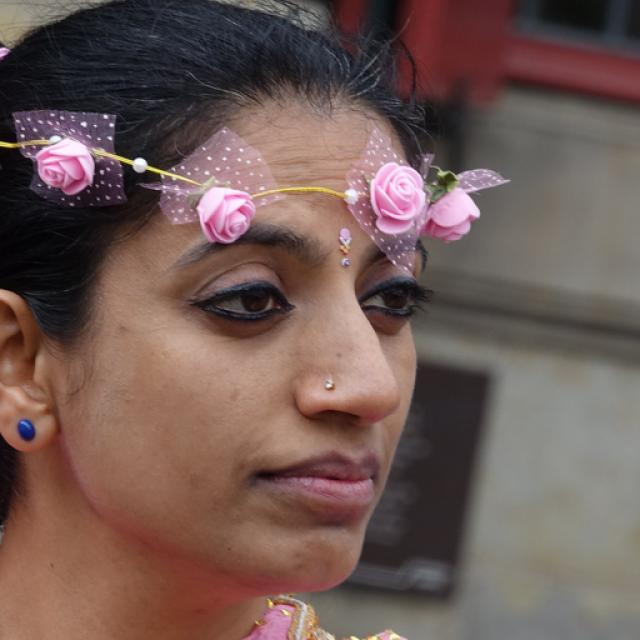neutral: (59, 86, 438, 596)
